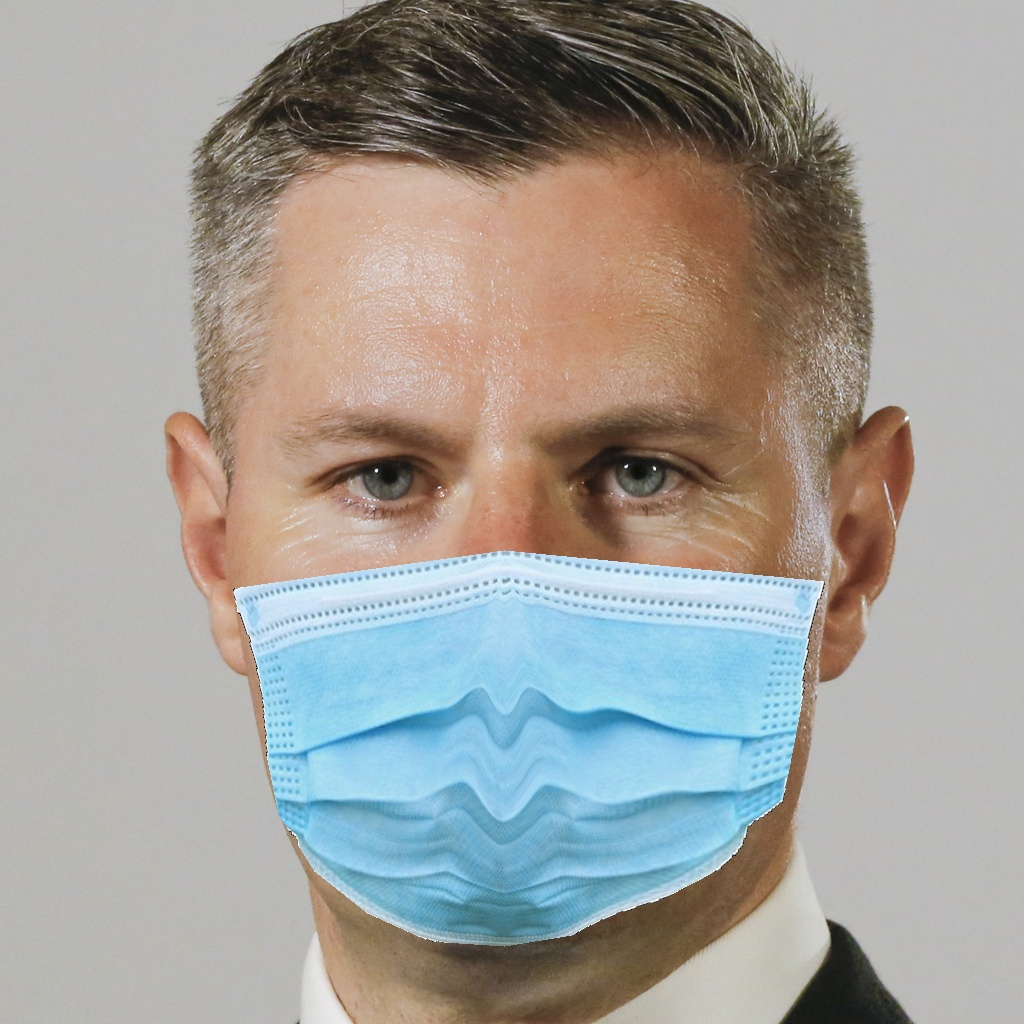Mask: (213, 550, 826, 939)
